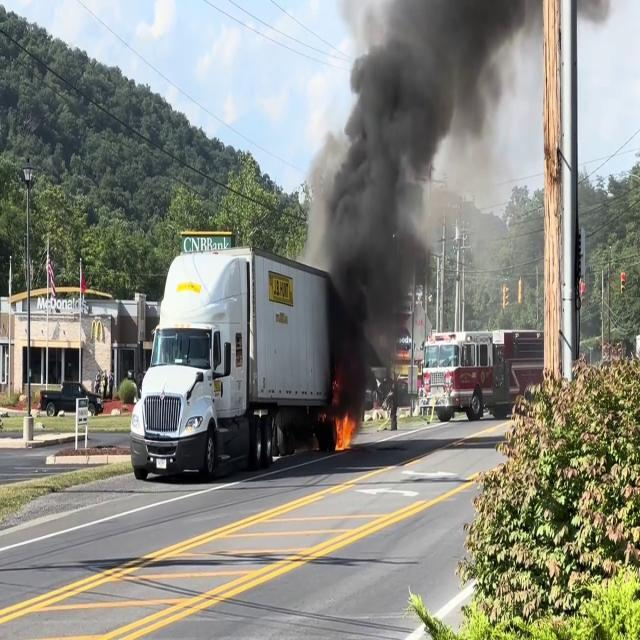Fire: (331, 404, 359, 454)
Smoke: (302, 0, 522, 392)
